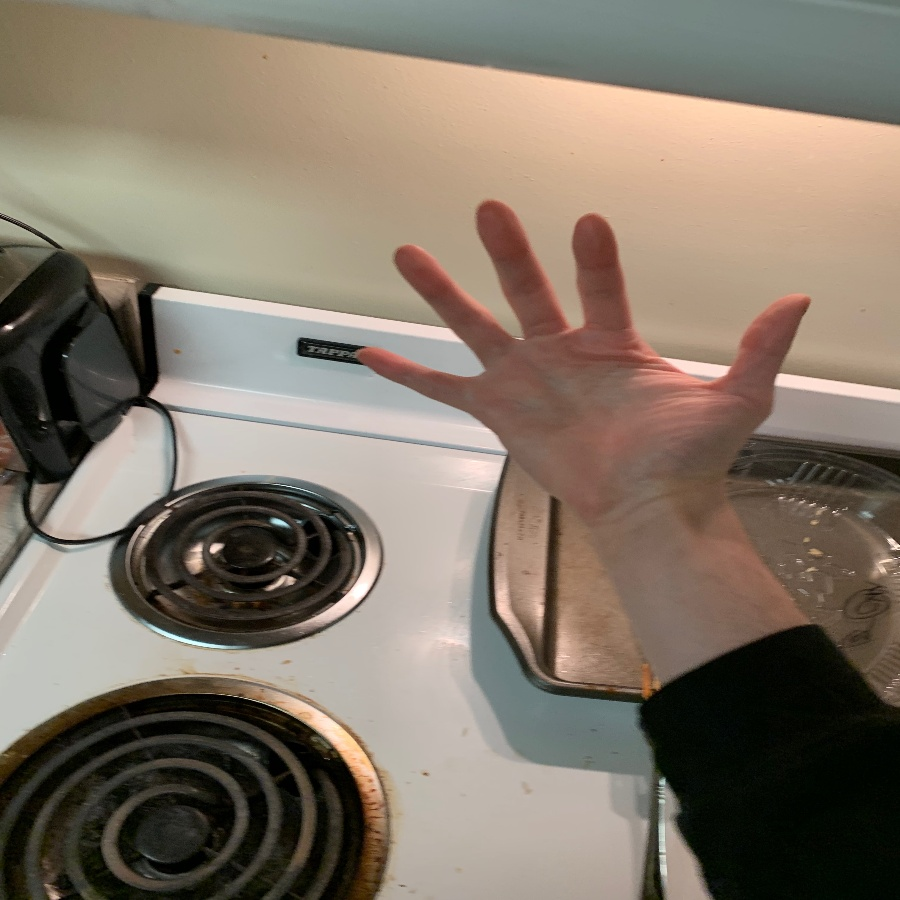tip: (470, 201, 533, 257), (754, 293, 817, 349), (567, 211, 623, 267), (392, 239, 450, 292), (355, 347, 404, 376)
